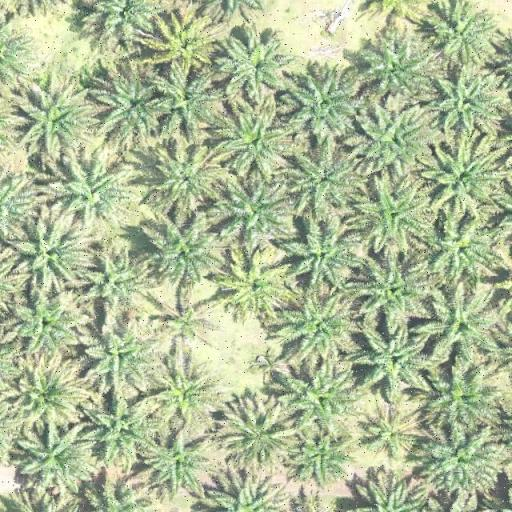Ganoderma: (162, 298, 214, 344)
